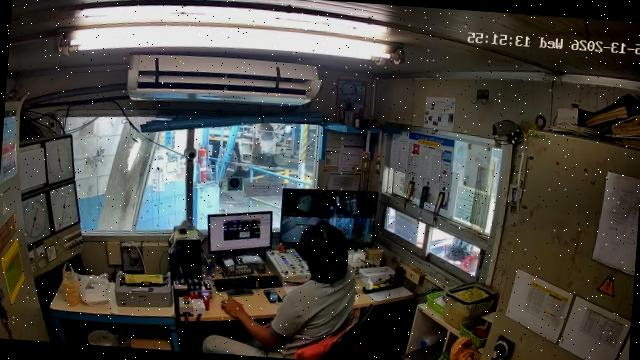Head: (298, 223, 348, 283)
People: (203, 224, 356, 359)
Phone: (225, 288, 253, 297), (263, 290, 280, 302)
